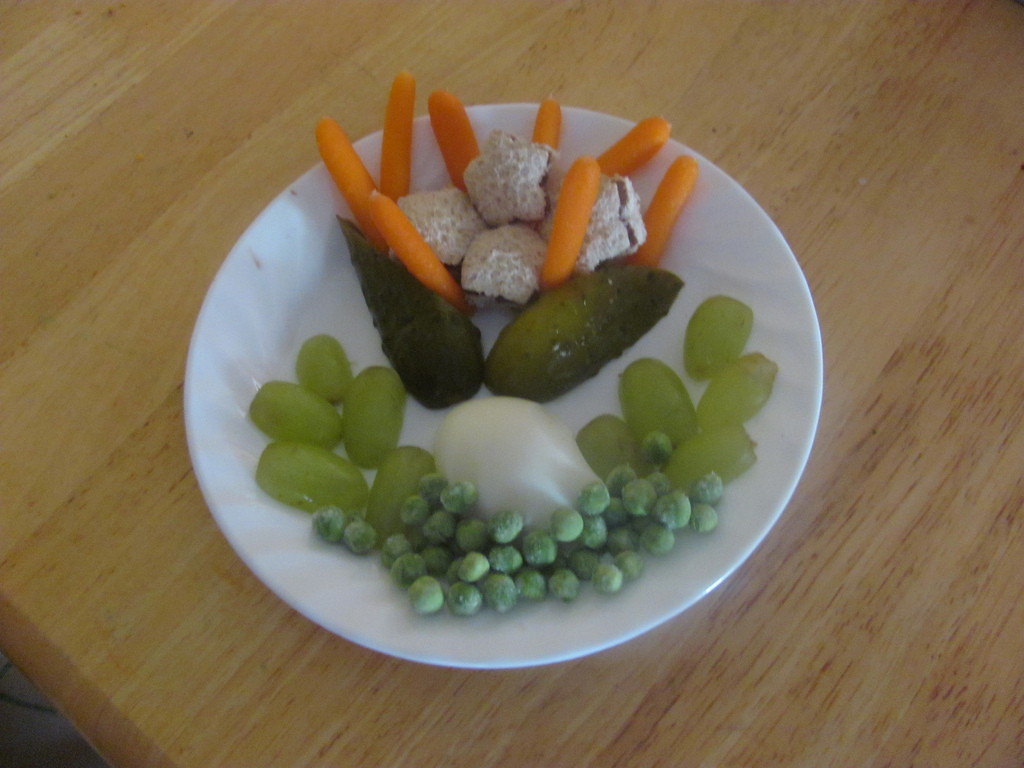boiled peas: (388, 502, 691, 615)
